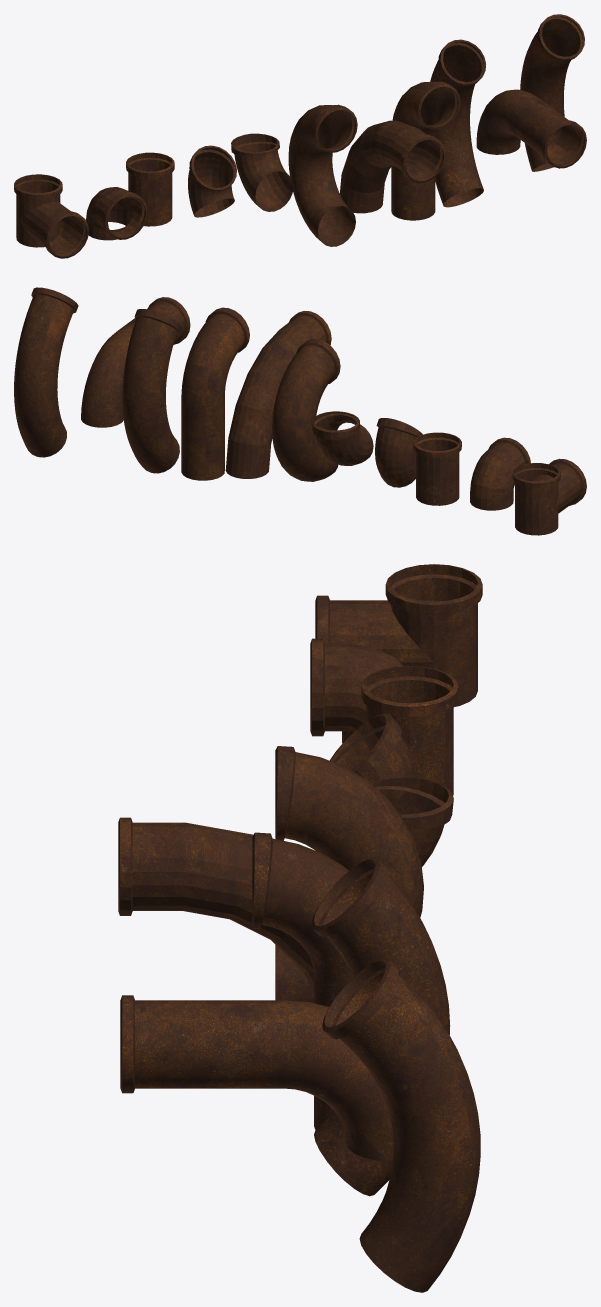
Rendered from pipes rusty uv.fbx.
3 views of the same model, one above another, from view 1: azimuth 30°, elevation 25°; view 2: azimuth 150°, elevation 25°; view 3: azimuth 270°, elevation 25° (orthographic). The views are drawn at different scales.
Parts seen in each view (by area): view 1: pipes_0001:pCylinder9, pipes_0001:pCylinder19, pipes_0001:pasted__pCylinder12, pipes_0001:pasted__pCylinder10, pipes_0001:pasted__pCylinder11, pipes_0001:pasted__pCylinder17, pipes_0001:pasted__pCylinder13, pipes_0001:pasted__pCylinder7, pipes_0001:pasted__pCylinder6, pipes_0001:pCylinder1, pipes_0001:pCylinder18; view 2: pipes_0001:pasted__pCylinder11, pipes_0001:pasted__pCylinder13, pipes_0001:pasted__pCylinder10, pipes_0001:pCylinder19, pipes_0001:pCylinder9, pipes_0001:pasted__pCylinder12, pipes_0001:pasted__pCylinder17, pipes_0001:pCylinder1, pipes_0001:pCylinder18, pipes_0001:pasted__pCylinder6, pipes_0001:pasted__pCylinder7; view 3: pipes_0001:pasted__pCylinder13, pipes_0001:pasted__pCylinder12, pipes_0001:pCylinder9, pipes_0001:pasted__pCylinder10, pipes_0001:pCylinder19, pipes_0001:pasted__pCylinder17, pipes_0001:pasted__pCylinder11, pipes_0001:pCylinder1, pipes_0001:pCylinder18, pipes_0001:pasted__pCylinder6, pipes_0001:pasted__pCylinder7.
Part boxes in pixels (x1,y1,x2,y2): pipes_0001:pCylinder9: (288, 104, 357, 246); pipes_0001:pCylinder19: (340, 120, 445, 213); pipes_0001:pasted__pCylinder12: (476, 89, 586, 168); pipes_0001:pasted__pCylinder10: (430, 39, 485, 207); pipes_0001:pasted__pCylinder11: (391, 81, 460, 220); pipes_0001:pasted__pCylinder17: (14, 174, 88, 258); pipes_0001:pasted__pCylinder13: (520, 14, 584, 171); pipes_0001:pasted__pCylinder7: (231, 133, 293, 211); pipes_0001:pasted__pCylinder6: (188, 145, 236, 217); pipes_0001:pCylinder1: (126, 152, 174, 226); pipes_0001:pCylinder18: (86, 187, 147, 240); pipes_0001:pasted__pCylinder11: (181, 307, 249, 480); pipes_0001:pasted__pCylinder13: (14, 287, 78, 457); pipes_0001:pasted__pCylinder10: (122, 309, 181, 473); pipes_0001:pCylinder19: (225, 311, 331, 478); pipes_0001:pCylinder9: (272, 339, 340, 481); pipes_0001:pasted__pCylinder12: (81, 297, 190, 427); pipes_0001:pasted__pCylinder17: (512, 458, 586, 535); pipes_0001:pCylinder1: (413, 432, 461, 505); pipes_0001:pCylinder18: (470, 437, 530, 510); pipes_0001:pasted__pCylinder6: (375, 418, 422, 487); pipes_0001:pasted__pCylinder7: (311, 411, 373, 465); pipes_0001:pasted__pCylinder13: (322, 958, 480, 1292); pipes_0001:pasted__pCylinder12: (120, 995, 393, 1161); pipes_0001:pCylinder9: (275, 746, 423, 1003); pipes_0001:pasted__pCylinder10: (311, 857, 450, 1196); pipes_0001:pCylinder19: (118, 817, 313, 990); pipes_0001:pasted__pCylinder17: (315, 564, 482, 706); pipes_0001:pasted__pCylinder11: (252, 832, 352, 1129); pipes_0001:pCylinder1: (361, 666, 458, 795); pipes_0001:pCylinder18: (310, 638, 403, 743); pipes_0001:pasted__pCylinder6: (330, 713, 416, 782); pipes_0001:pasted__pCylinder7: (371, 777, 453, 866).
Size of the model in its own units: 142 by 41.12 by 41.48.
1 material, 1 textured.
